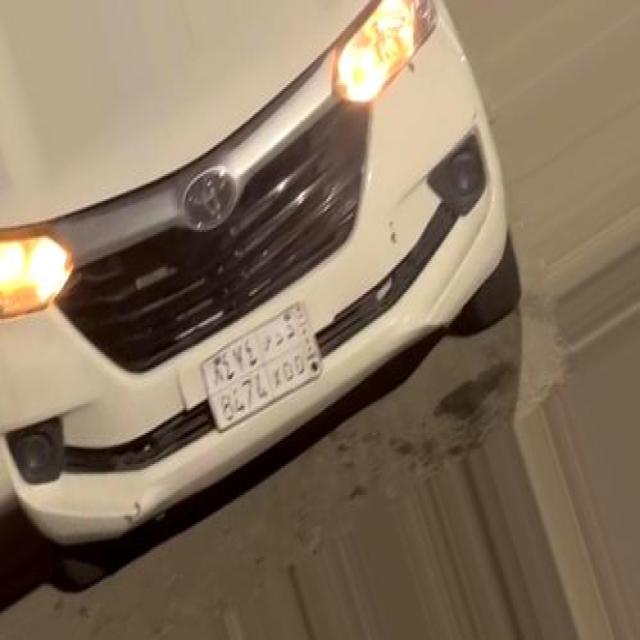Car-plate: (192, 280, 342, 456)
